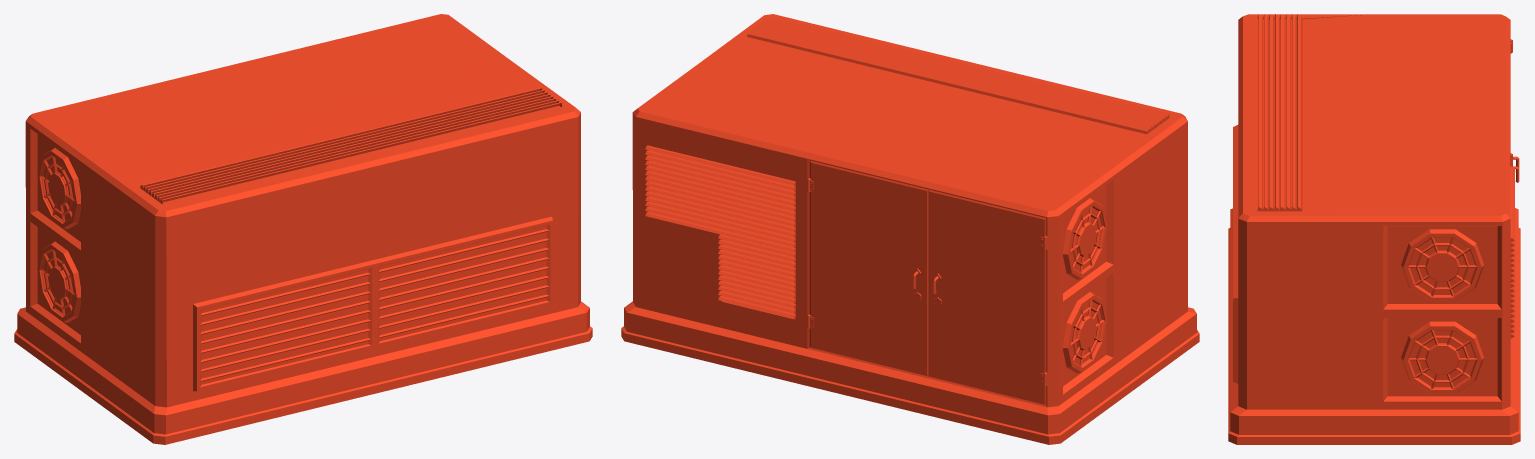
Rendered from SM_AC_C_City.fbx.
3 views of the same model, side by side, from view 1: azimuth 30°, elevation 25°; view 2: azimuth 150°, elevation 25°; view 3: azimuth 270°, elevation 25° (orthographic).
Parts seen in each view (by area): view 1: SM_AC_C_City; view 2: SM_AC_C_City; view 3: SM_AC_C_City.
Part boxes in pixels (box(x1,y1,x2,y2)): SM_AC_C_City: box(14, 14, 592, 444); SM_AC_C_City: box(621, 14, 1199, 444); SM_AC_C_City: box(1228, 14, 1520, 444).
Size of the model in its own units: 2.91 by 1.46 by 1.7.
